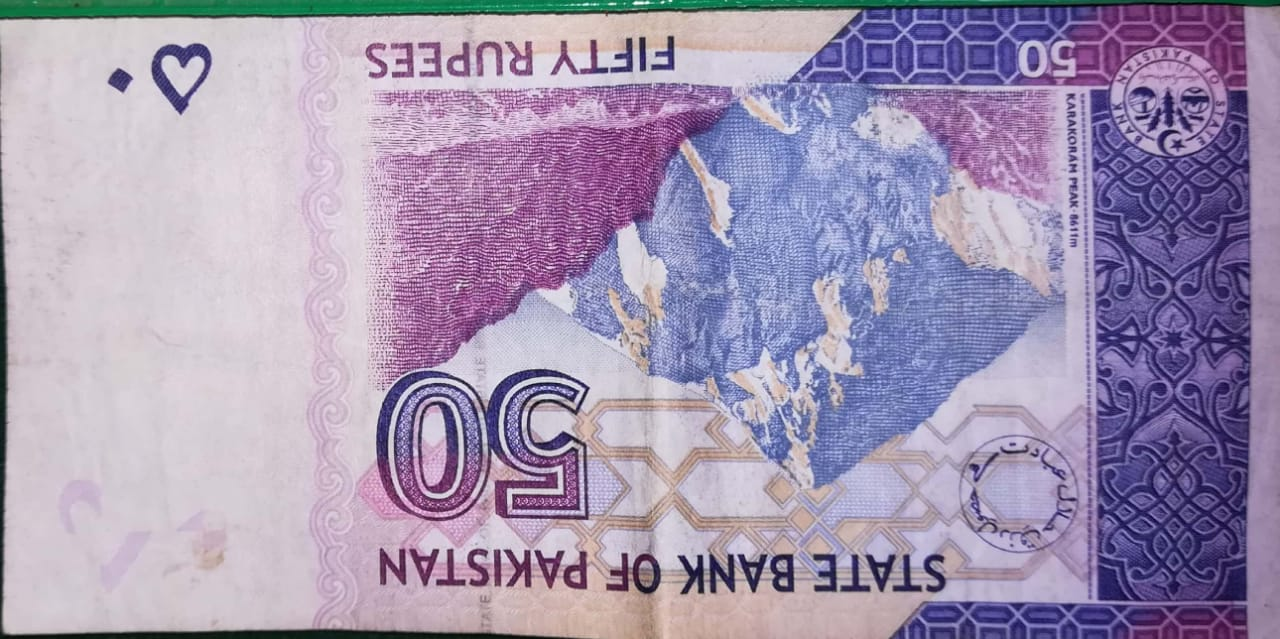50 rupee: (19, 19, 1252, 633)
